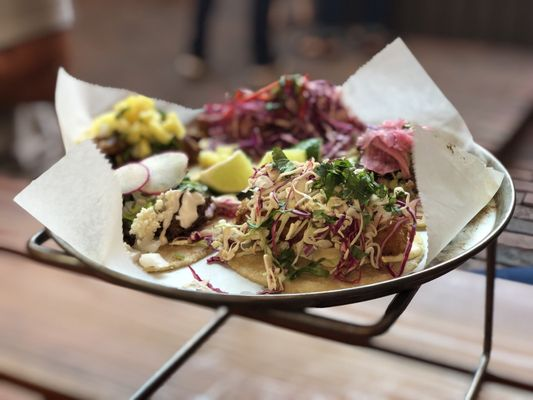curry: (9, 10, 531, 400)
